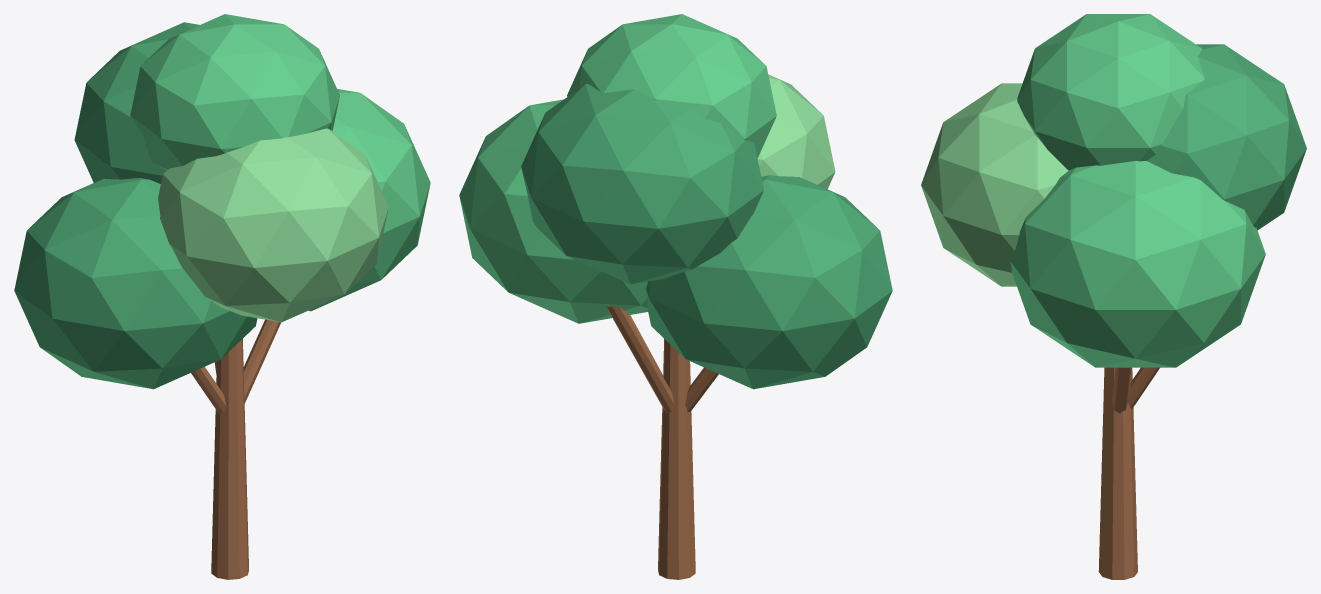
Rendered from tree_oak_large.glb.
The picture shows the model from 3 angles, left to right: view 1: azimuth 30°, elevation 25°; view 2: azimuth 150°, elevation 25°; view 3: azimuth 270°, elevation 25°; orthographic projection.
Parts seen in each view (by area): view 1: tree_oak_large_Mesh; view 2: tree_oak_large_Mesh; view 3: tree_oak_large_Mesh.
Part boxes in pixels (x1=…): tree_oak_large_Mesh: x1=14, y1=14, x2=430, y2=579; tree_oak_large_Mesh: x1=459, y1=14, x2=892, y2=579; tree_oak_large_Mesh: x1=921, y1=14, x2=1306, y2=579.
Size of the model in its own units: 7.82 by 10.58 by 6.69.
